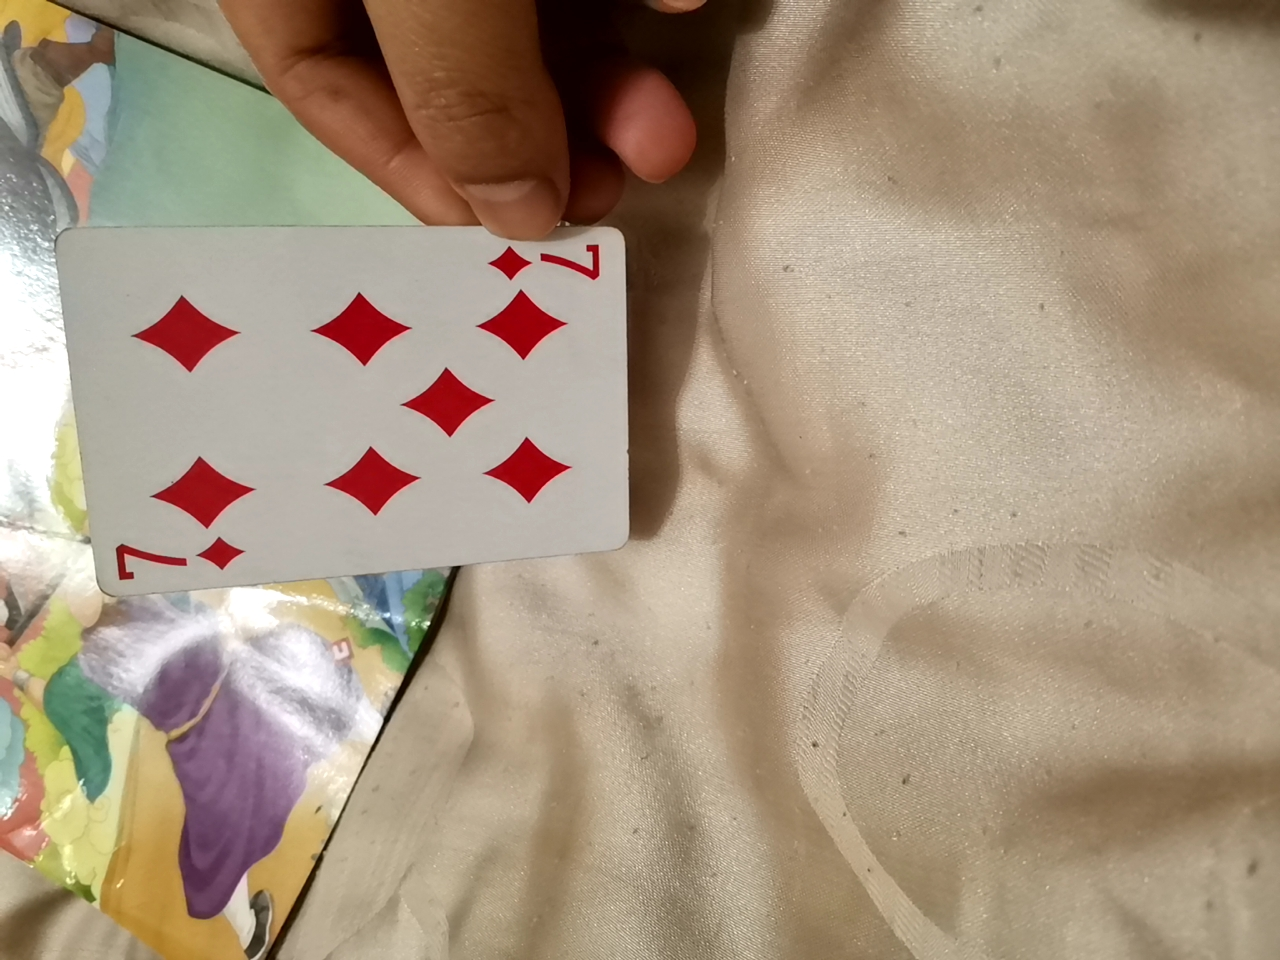fk 7: (98, 212, 607, 558)
